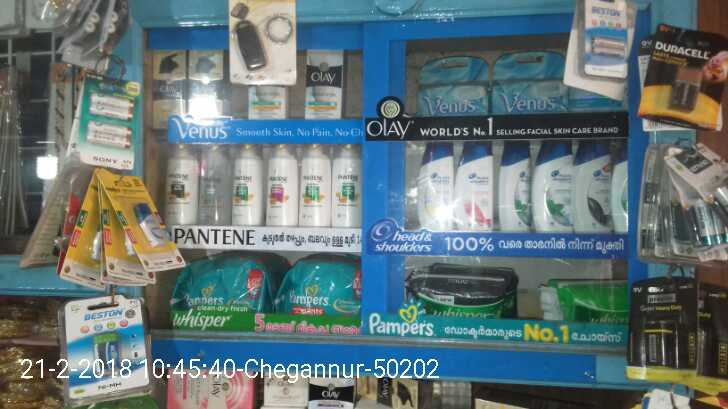venus: (491, 53, 562, 111), (422, 63, 491, 111)
